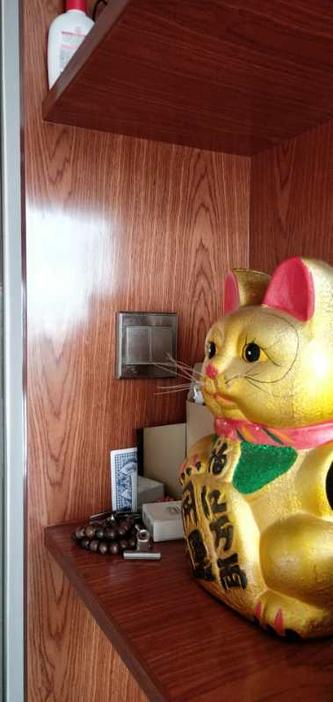switch: (127, 325, 148, 362), (162, 325, 178, 368)
